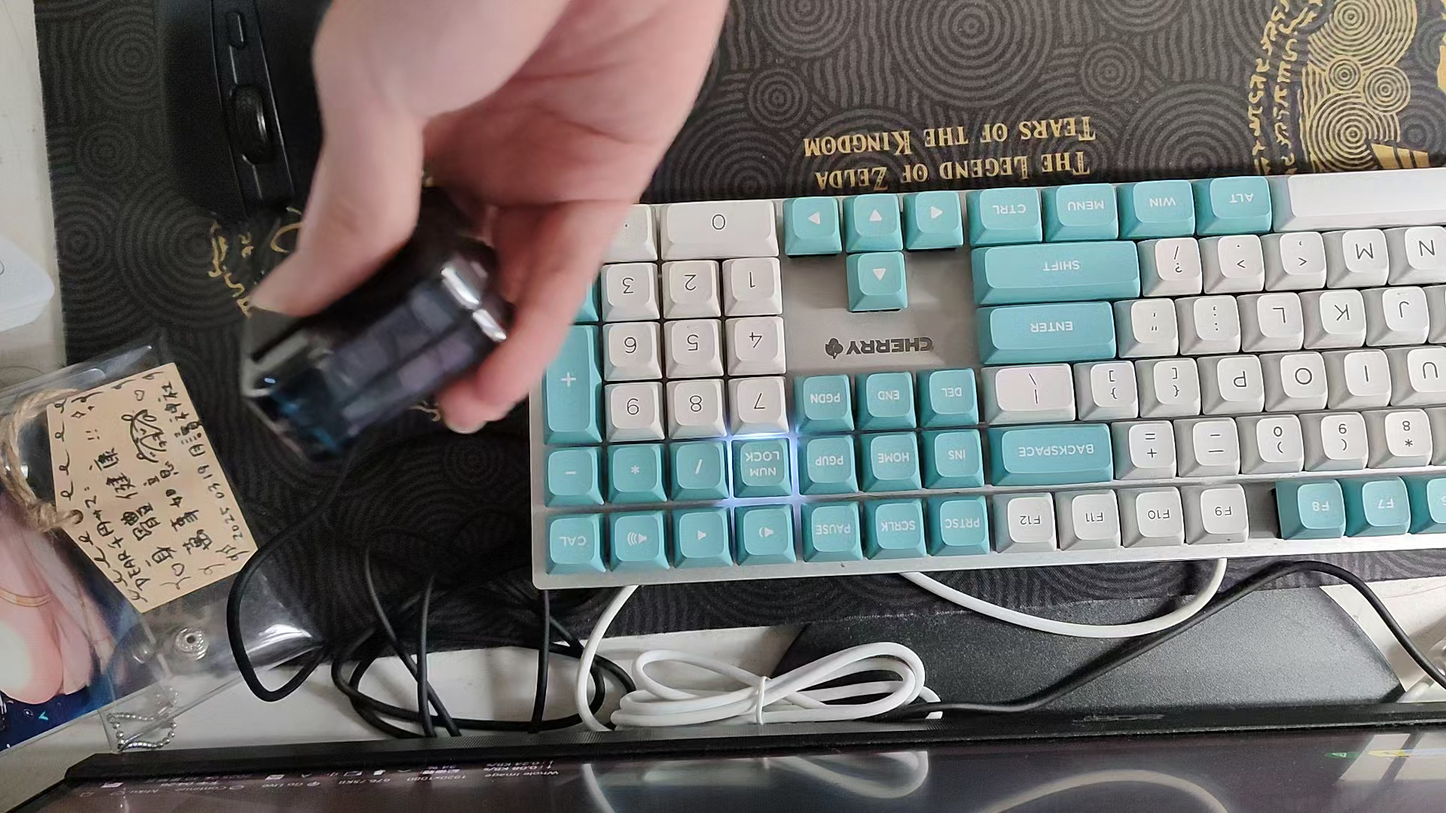Wireless_earphone: (239, 181, 516, 465)
